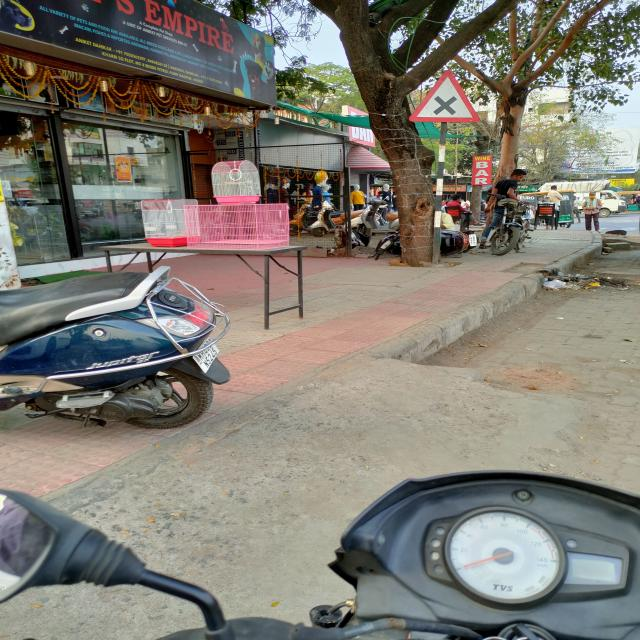CROSS_ROAD: (408, 70, 480, 123)
